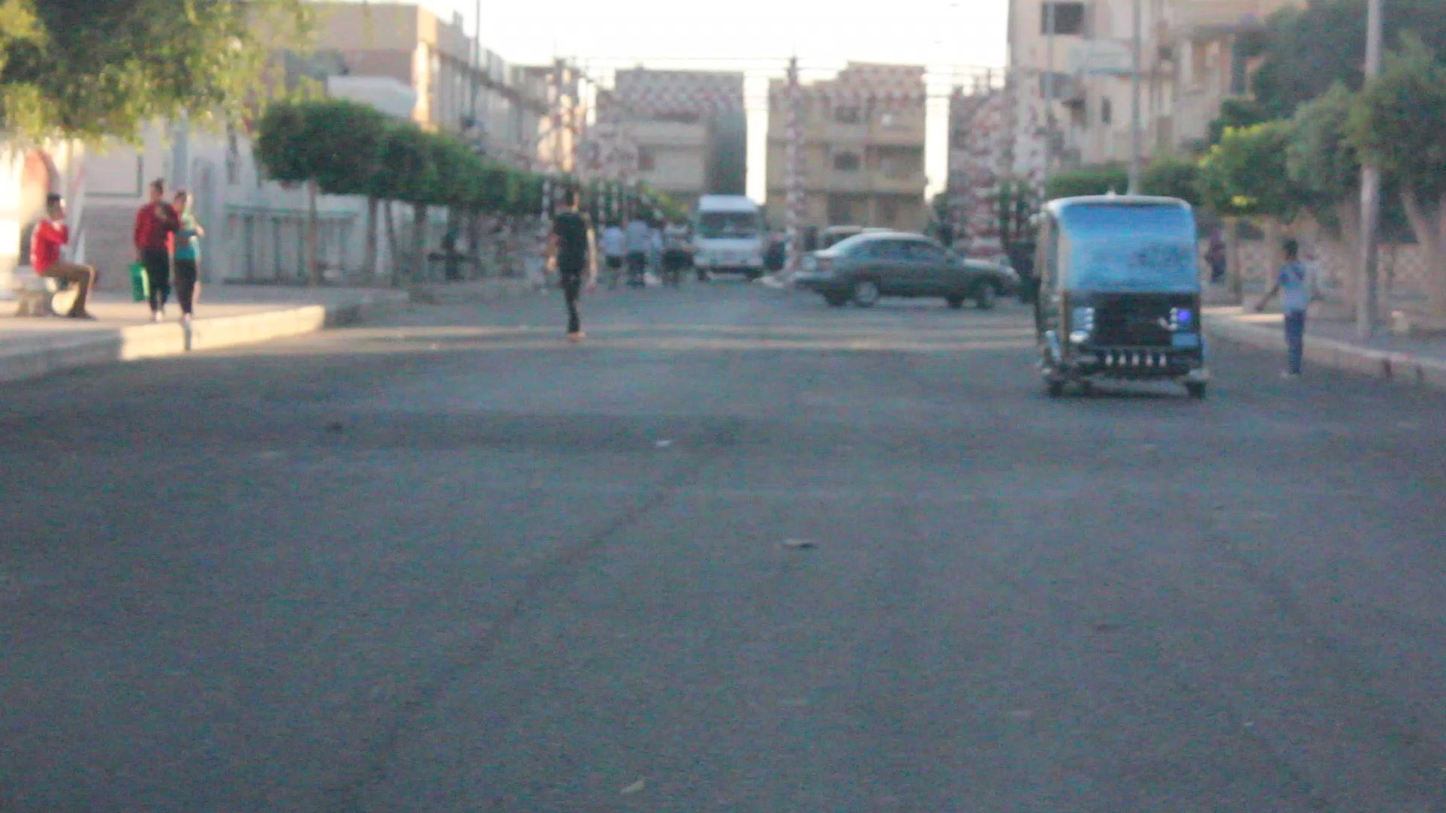Bump: (0, 411, 1445, 508)
